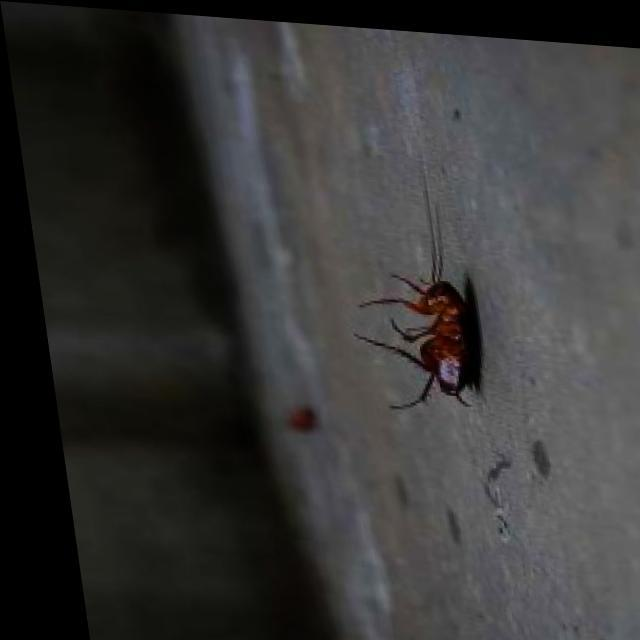cockroach: (370, 240, 494, 440)
